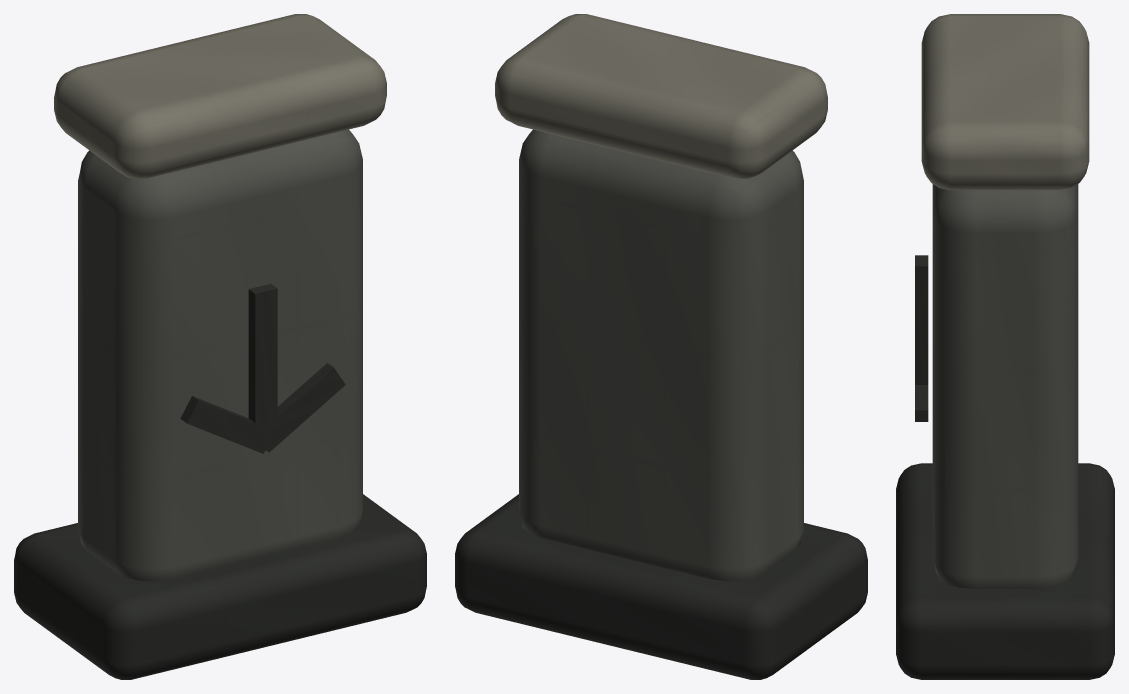
The model's file is sk-milestone.glb.
3 views of the same model, side by side, from view 1: azimuth 30°, elevation 25°; view 2: azimuth 150°, elevation 25°; view 3: azimuth 270°, elevation 25° (orthographic).
Parts seen in each view (by area): view 1: milestone-body, settlement:milestone-static-stone, milestone-cap; view 2: milestone-body, settlement:milestone-static-stone, milestone-cap; view 3: milestone-body, settlement:milestone-static-stone, milestone-cap.
Part boxes in pixels (x1=…): milestone-body: x1=78, y1=129, x2=362, y2=581; settlement:milestone-static-stone: x1=14, y1=283, x2=426, y2=679; milestone-cap: x1=54, y1=14, x2=386, y2=178; milestone-body: x1=519, y1=129, x2=803, y2=581; settlement:milestone-static-stone: x1=455, y1=494, x2=867, y2=679; milestone-cap: x1=495, y1=14, x2=827, y2=178; milestone-body: x1=932, y1=184, x2=1078, y2=588; settlement:milestone-static-stone: x1=896, y1=255, x2=1114, y2=679; milestone-cap: x1=921, y1=14, x2=1089, y2=190.
Bounding box in the file's own units: 0.5 × 0.82 × 0.3.
Materials: 3 (3 with a texture image).
